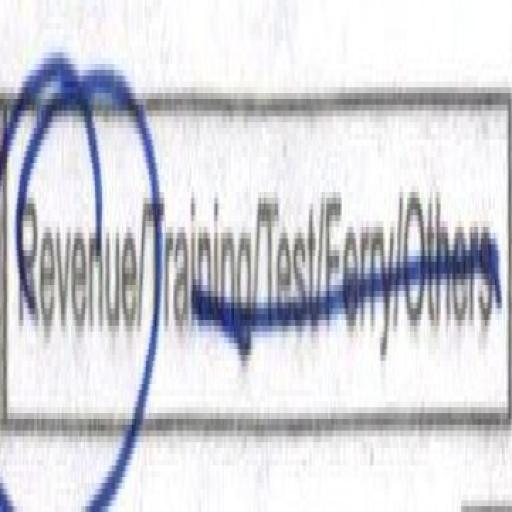check: (2, 32, 147, 512)
